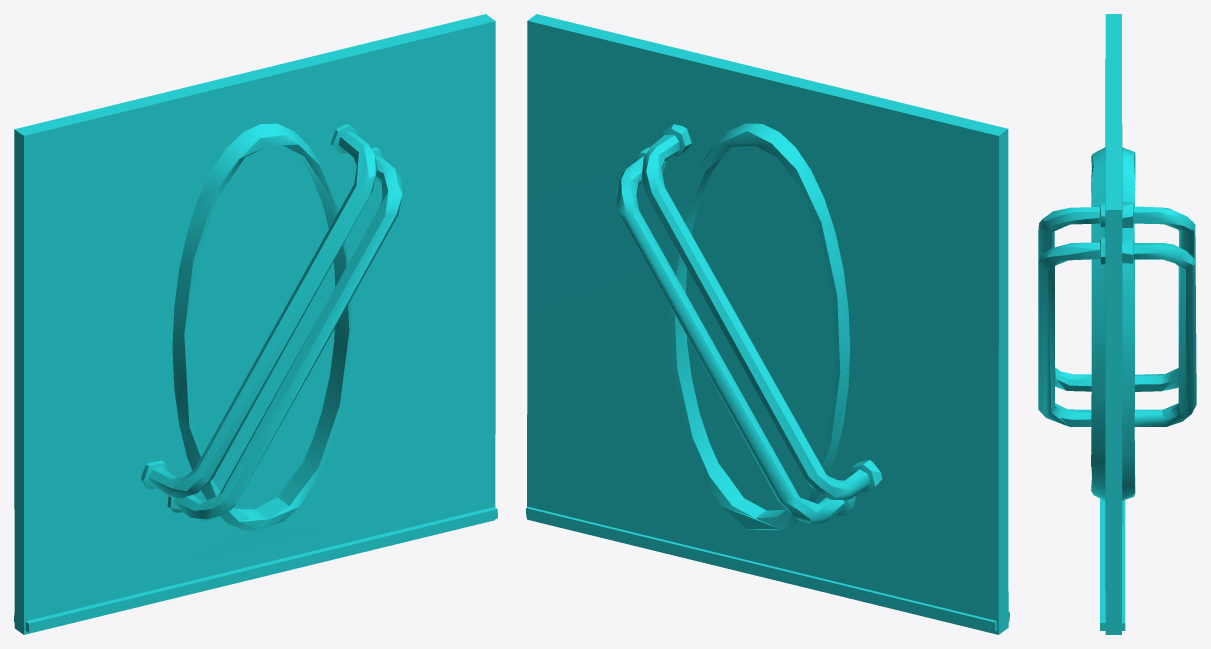
Rendered from Porta_esquerda.001.fbx.
The picture shows the model from 3 angles, left to right: view 1: azimuth 30°, elevation 25°; view 2: azimuth 150°, elevation 25°; view 3: azimuth 270°, elevation 25°; orthographic projection. The views are drawn at different scales.
Visible parts, largest first — view 1: Porta_esquerda.001; view 2: Porta_esquerda.001; view 3: Porta_esquerda.001.
Part boxes in pixels (<box>): Porta_esquerda.001: <box>14,14,497,634</box>; Porta_esquerda.001: <box>526,14,1009,634</box>; Porta_esquerda.001: <box>1038,14,1196,634</box>.
Size of the model in its own units: 360 by 364 by 123.
